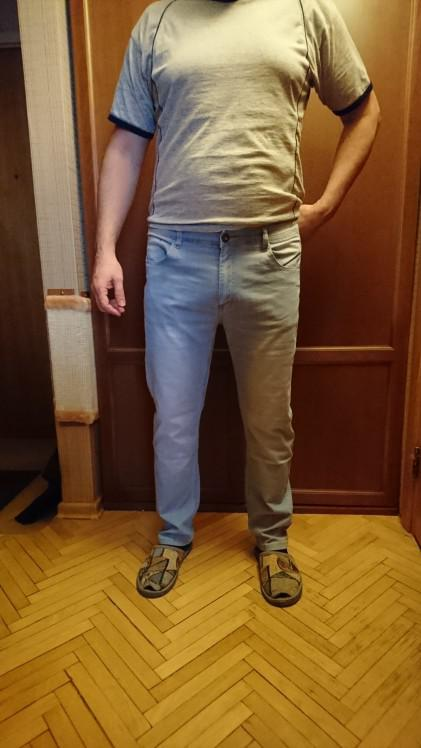jeans: (131, 212, 311, 566)
